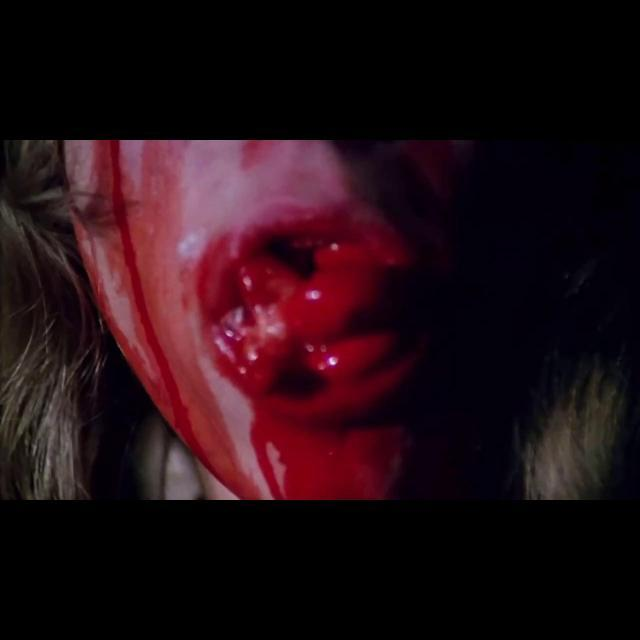blood: (66, 142, 422, 499)
